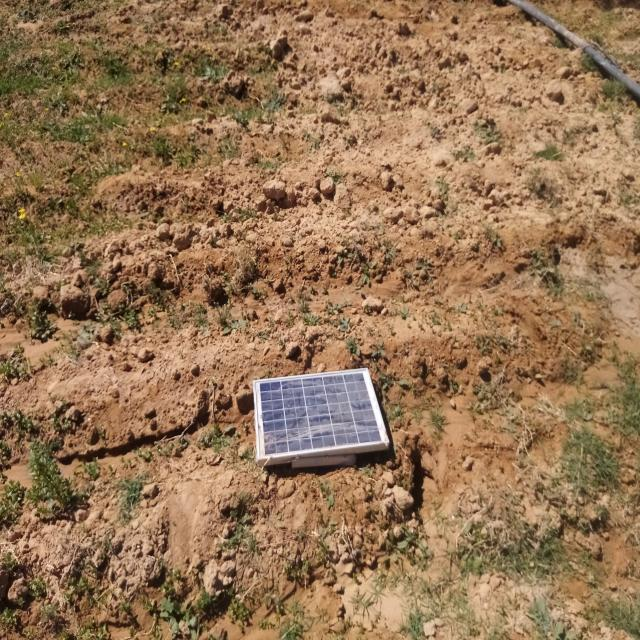faulty: (255, 367, 388, 458)
